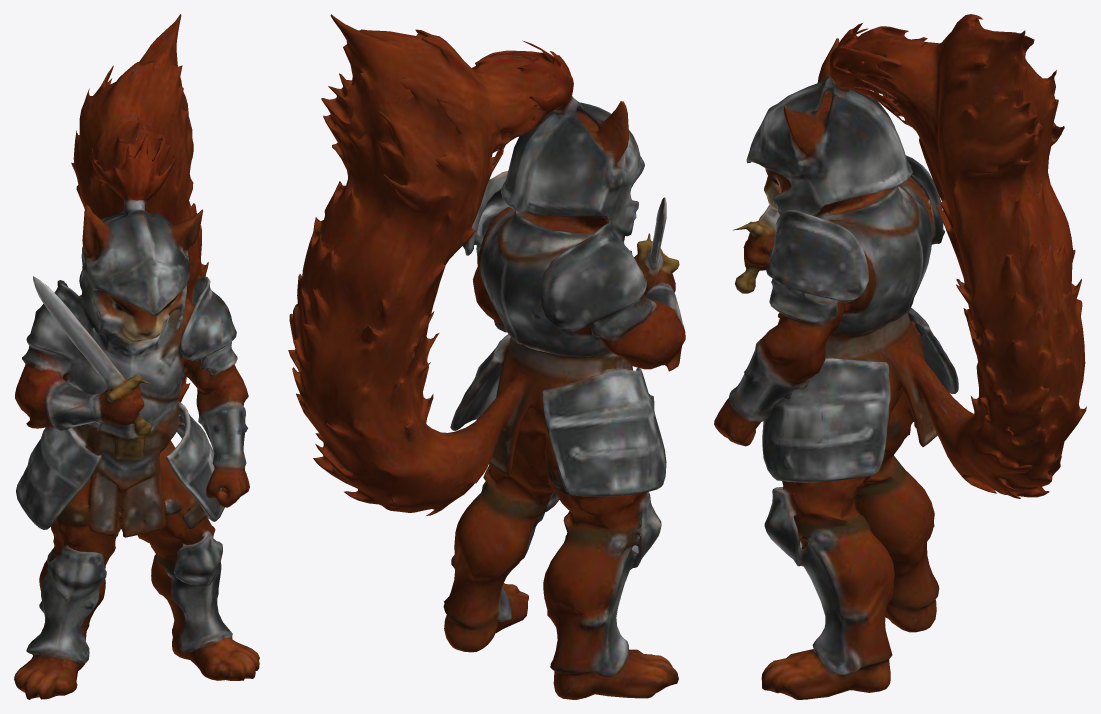
File: angry_squirrel.glb
3 views of the same model, side by side, from view 1: azimuth 30°, elevation 25°; view 2: azimuth 150°, elevation 25°; view 3: azimuth 270°, elevation 25° (orthographic). The views are drawn at different scales.
Size of the model in its own units: 0.4265 by 0.9202 by 0.4501.
1 material, 1 textured.
